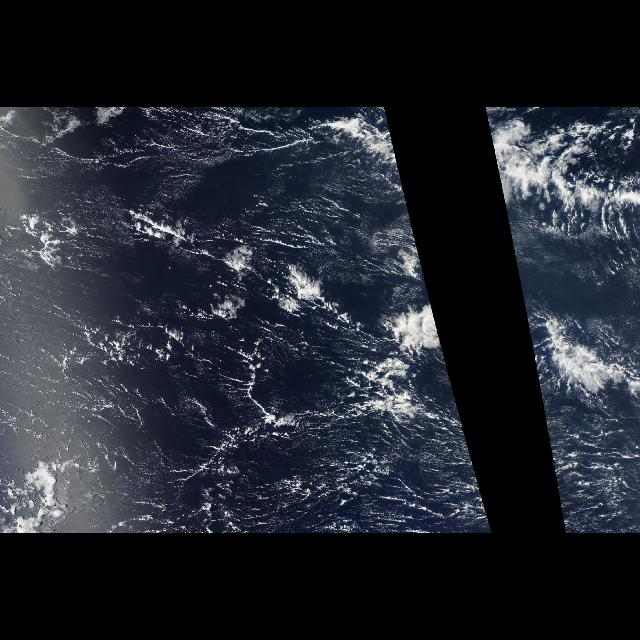Sugar: (4, 110, 493, 528), (542, 408, 636, 528)
